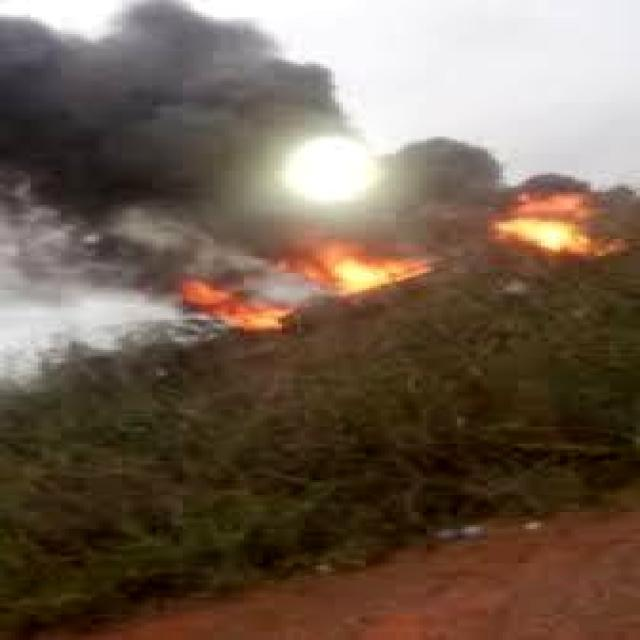Fire: (180, 240, 418, 340), (494, 207, 592, 254)
Smoke: (0, 0, 503, 254)
